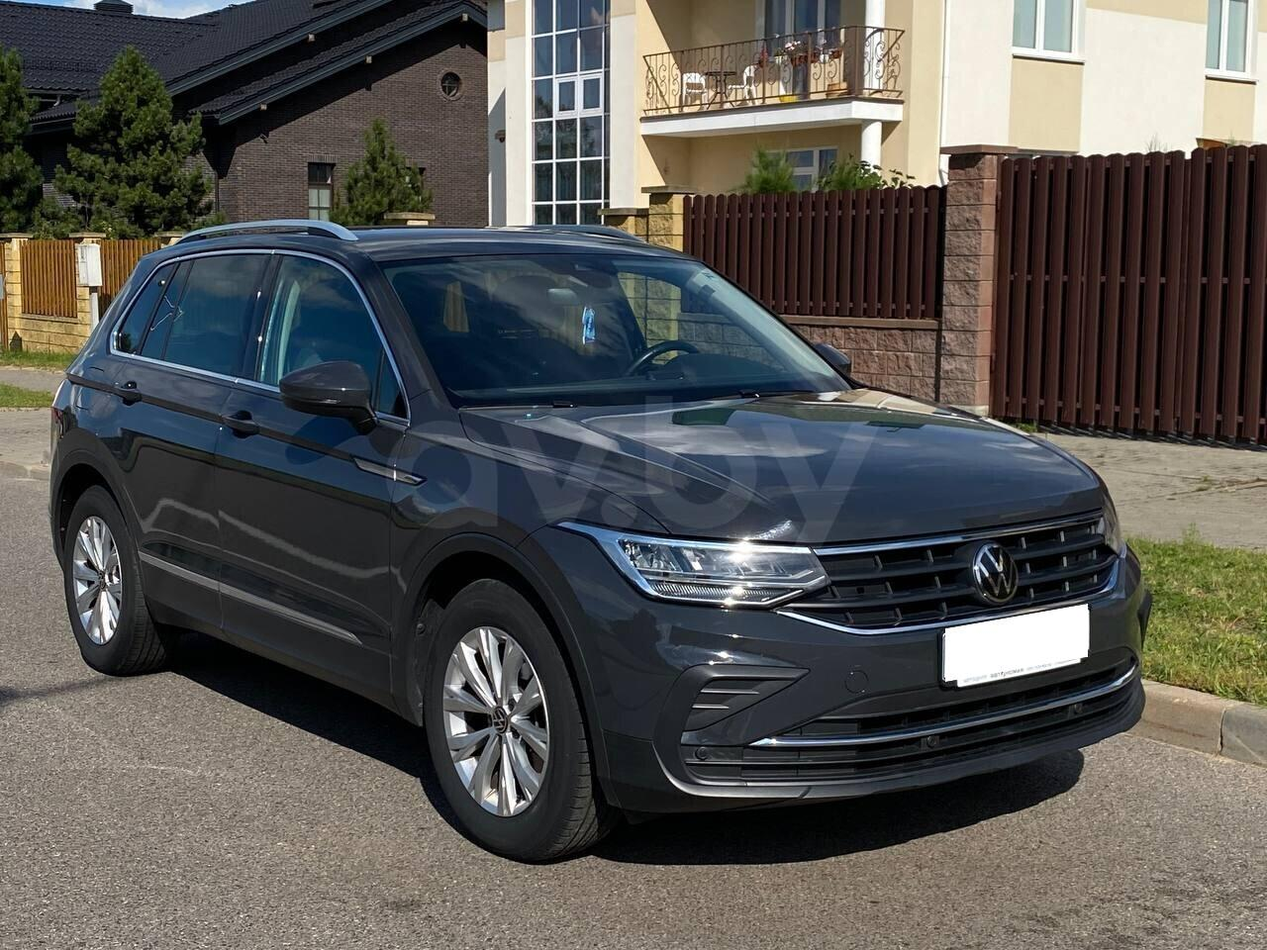Tiguan_2020-2024: (49, 220, 1157, 856)
